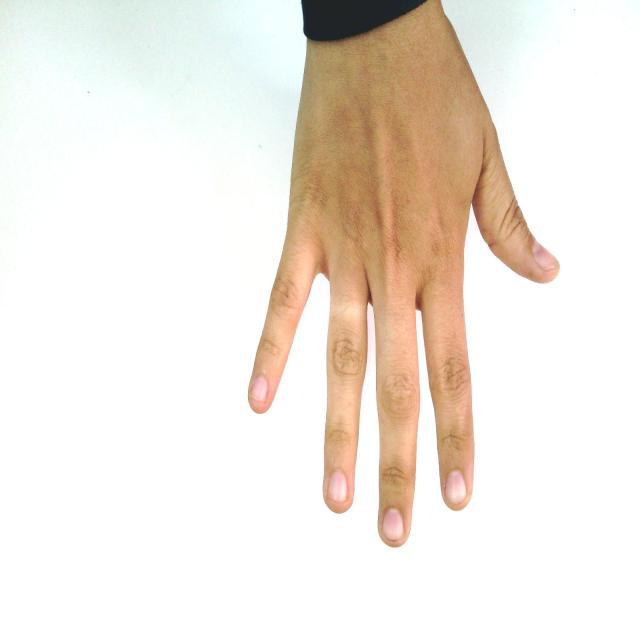Fingernail: (532, 242, 558, 271), (446, 470, 467, 505), (383, 508, 404, 541), (328, 472, 347, 502), (249, 377, 267, 401)
